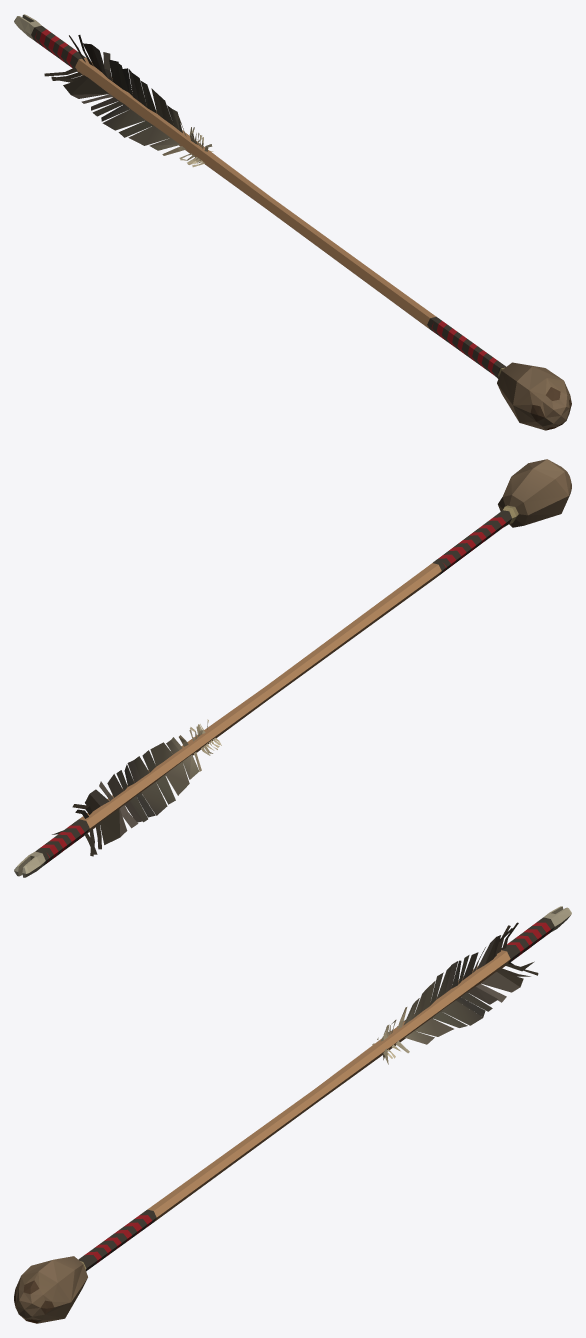
File: baojianArrow.glb
The picture shows the model from 3 angles, top to bottom: view 1: azimuth 30°, elevation 25°; view 2: azimuth 150°, elevation 25°; view 3: azimuth 330°, elevation 25°; orthographic projection.
Visible parts, largest first — view 1: baojianArrow; view 2: baojianArrow; view 3: baojianArrow.
Part boxes in pixels (box(x1,y1,x2,y2)): baojianArrow: box(14, 14, 571, 430); baojianArrow: box(14, 459, 571, 877); baojianArrow: box(14, 906, 571, 1323).
Bounding box in the file's own units: 0.0622 × 0.059 × 1.04.
